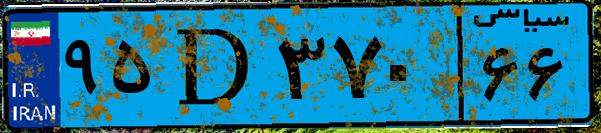0: (385, 28, 445, 110)
3: (270, 28, 330, 110)
5: (110, 28, 158, 98)
6: (475, 38, 525, 113), (525, 38, 570, 115)
7: (330, 28, 385, 110)
9: (57, 26, 110, 100)
D: (158, 12, 270, 120)
